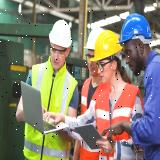Helmet: (117, 15, 153, 45), (90, 30, 122, 63), (49, 18, 73, 50), (83, 27, 105, 52)
Vest: (22, 55, 78, 160), (95, 83, 145, 160), (81, 77, 106, 160)
